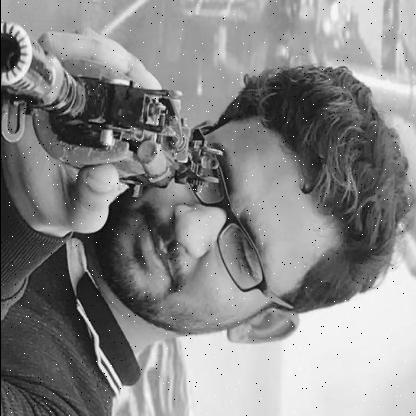rifle: (1, 19, 226, 201)
